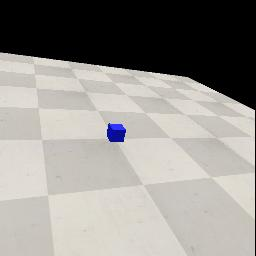box: (107, 123, 126, 142)
